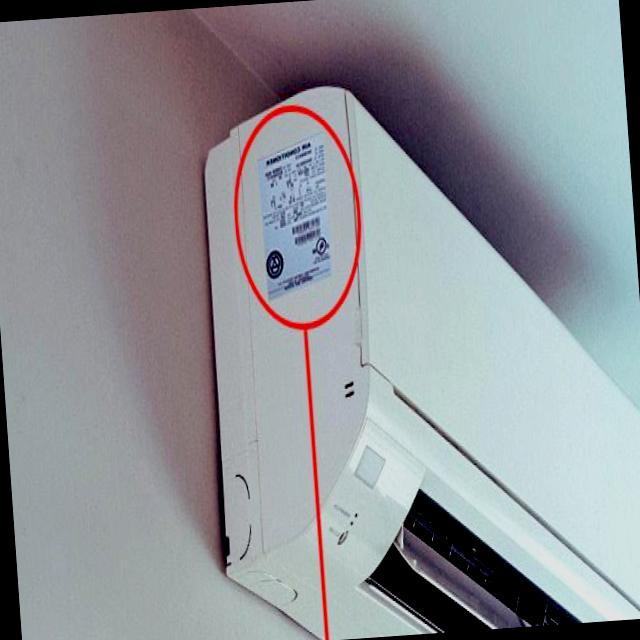SPLIT-SYSTEM: (184, 51, 640, 640)
